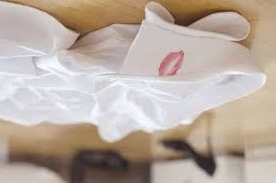lipstick: (154, 48, 187, 80)
